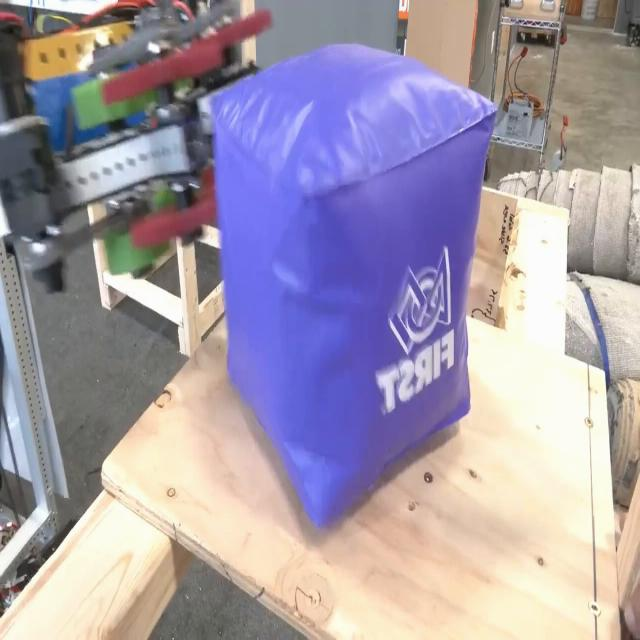frc_cube: (190, 35, 498, 538)
